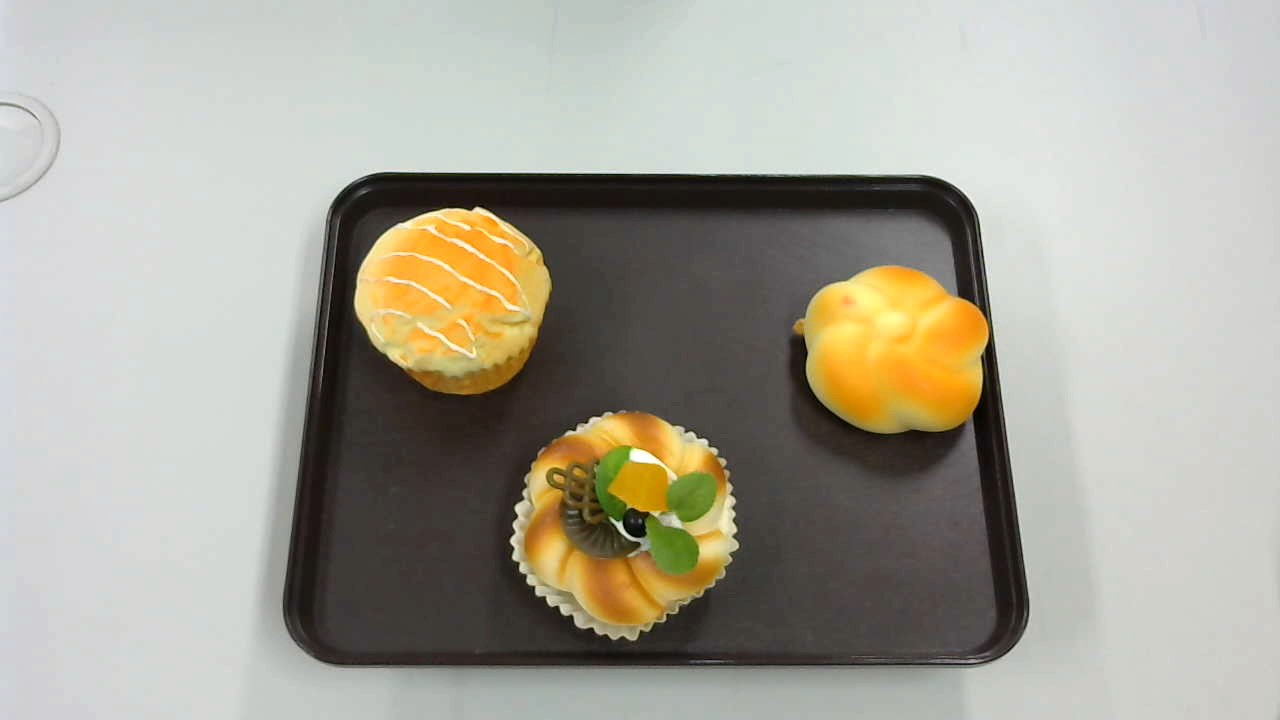croissant: (792, 264, 988, 439)
cupcake: (354, 205, 552, 394)
fruit tart: (511, 409, 738, 639)
